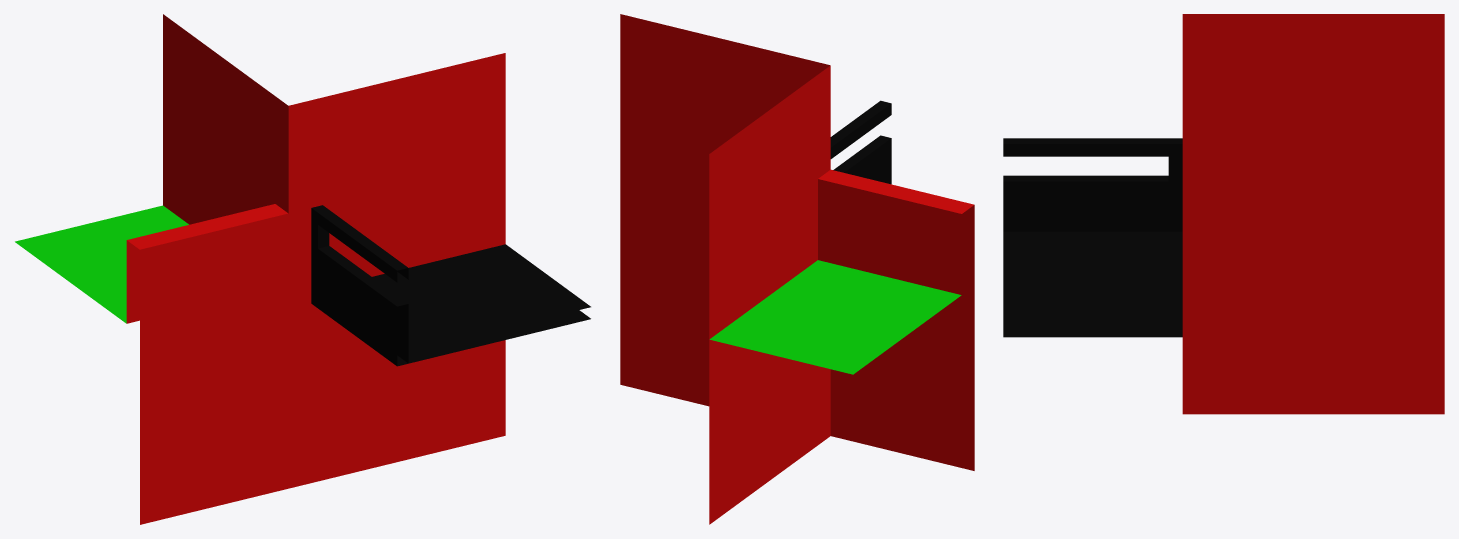
3 renders of one model, left to right at view 1: azimuth 30°, elevation 25°; view 2: azimuth 150°, elevation 25°; view 3: azimuth 270°, elevation 25°, orthographic. The views are drawn at different scales.
Parts seen in each view (by area): view 1: None_A_P_A_E_W_E_E_E_None; view 2: None_A_P_A_E_W_E_E_E_None; view 3: None_A_P_A_E_W_E_E_E_None.
Part boxes in pixels (<box>): None_A_P_A_E_W_E_E_E_None: <box>15,14,590,524</box>; None_A_P_A_E_W_E_E_E_None: <box>620,14,974,524</box>; None_A_P_A_E_W_E_E_E_None: <box>1003,14,1444,414</box>.
Size of the model in its own units: 100 by 100 by 100.
